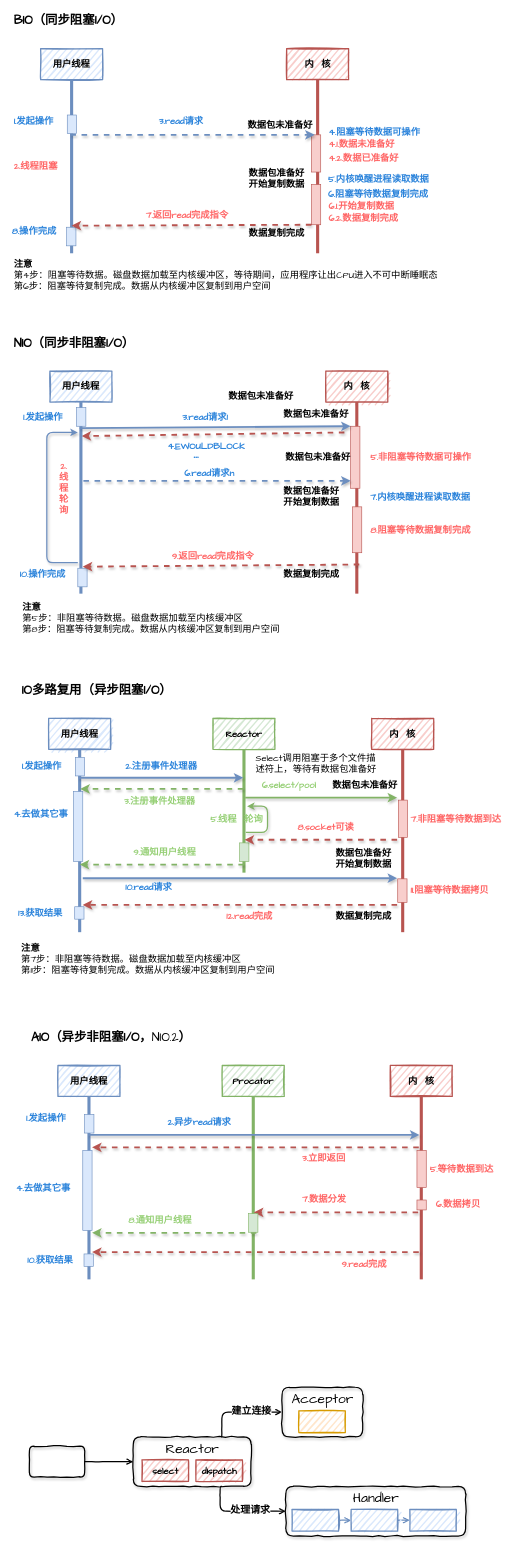
This 525x1551 diagram has some shape labels left out. The shapes that lost their labels are listed below. From the top down, each one's centre as x and y in pixels, then its label:
[322,1421]: accept
[57,1462]: Client
[315,1519]: read
[374,1519]: biz
[433,1519]: send
